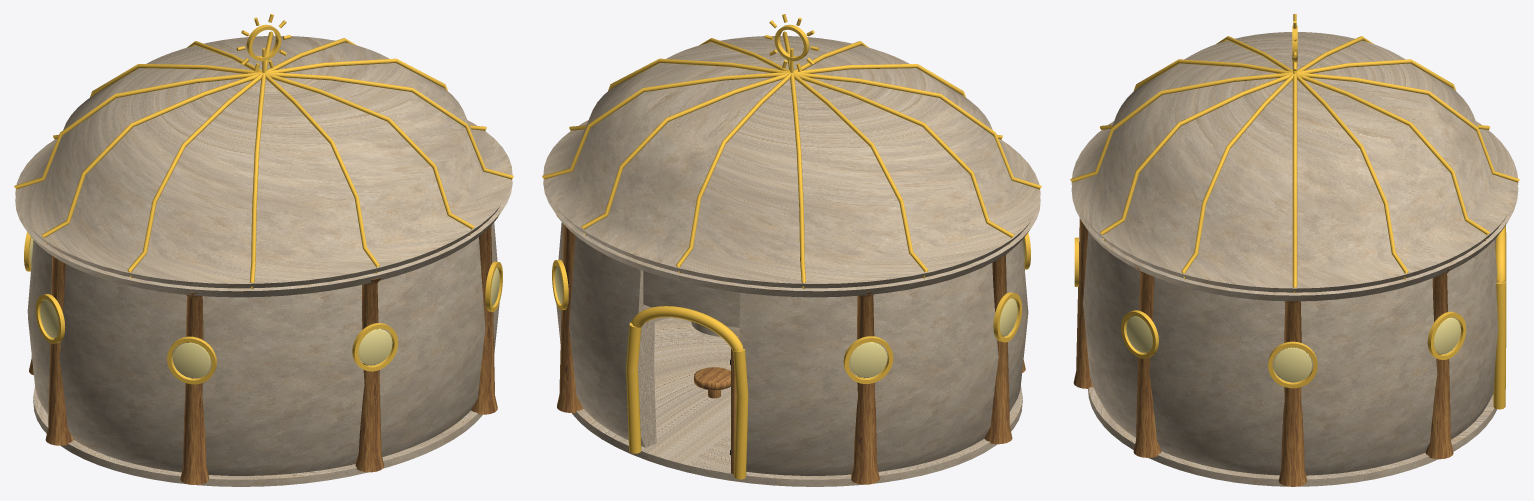
The model's file is 02_Taller_Abombado.obj.
The picture shows the model from 3 angles, left to right: view 1: azimuth 30°, elevation 25°; view 2: azimuth 150°, elevation 25°; view 3: azimuth 270°, elevation 25°; orthographic projection. The views are drawn at different scales.
Parts seen in each view (by area): view 1: Cubierta_desmontable, Cuerpo_abombado_con_interior, Pilares_y_oculos, Suelo, Remate_elemental; view 2: Cubierta_desmontable, Cuerpo_abombado_con_interior, Suelo, Pilares_y_oculos, Entrada_arqueada, Dintel_curvo, Remate_elemental, Mobiliario_interior, Puerta_Pivote_Y; view 3: Cubierta_desmontable, Cuerpo_abombado_con_interior, Pilares_y_oculos, Suelo, Entrada_arqueada.
Boxes of the visible parts, x1,y1,x2,y2 form: Cubierta_desmontable: (14,31,513,297); Cuerpo_abombado_con_interior: (27,222,499,475); Pilares_y_oculos: (24,217,502,484); Suelo: (33,387,482,486); Remate_elemental: (236,14,291,72); Cubierta_desmontable: (542,31,1041,297); Cuerpo_abombado_con_interior: (556,222,1028,475); Suelo: (572,317,1022,486); Pilares_y_oculos: (552,215,1030,484); Entrada_arqueada: (626,306,748,479); Dintel_curvo: (643,271,740,327); Remate_elemental: (764,14,819,72); Mobiliario_interior: (694,367,730,398); Puerta_Pivote_Y: (730,337,739,474); Cubierta_desmontable: (1070,32,1519,301); Cuerpo_abombado_con_interior: (1083,231,1498,475); Pilares_y_oculos: (1073,218,1466,486); Suelo: (1088,387,1497,486); Entrada_arqueada: (1493,225,1506,409).
Bounding box in the file's own units: 7.73 × 6.29 × 6.91.
